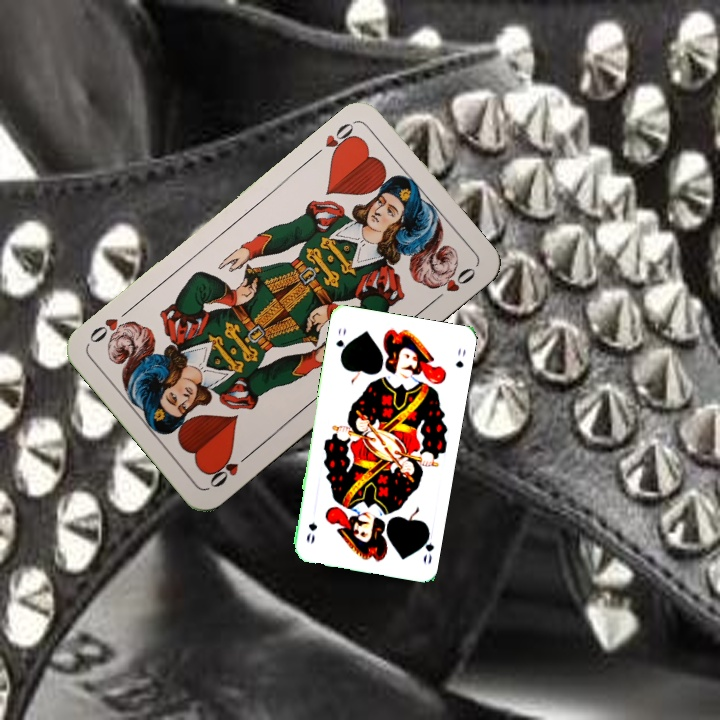GO: (416, 526, 437, 566), (332, 323, 349, 361)
HO: (308, 118, 361, 161), (204, 448, 254, 491)
